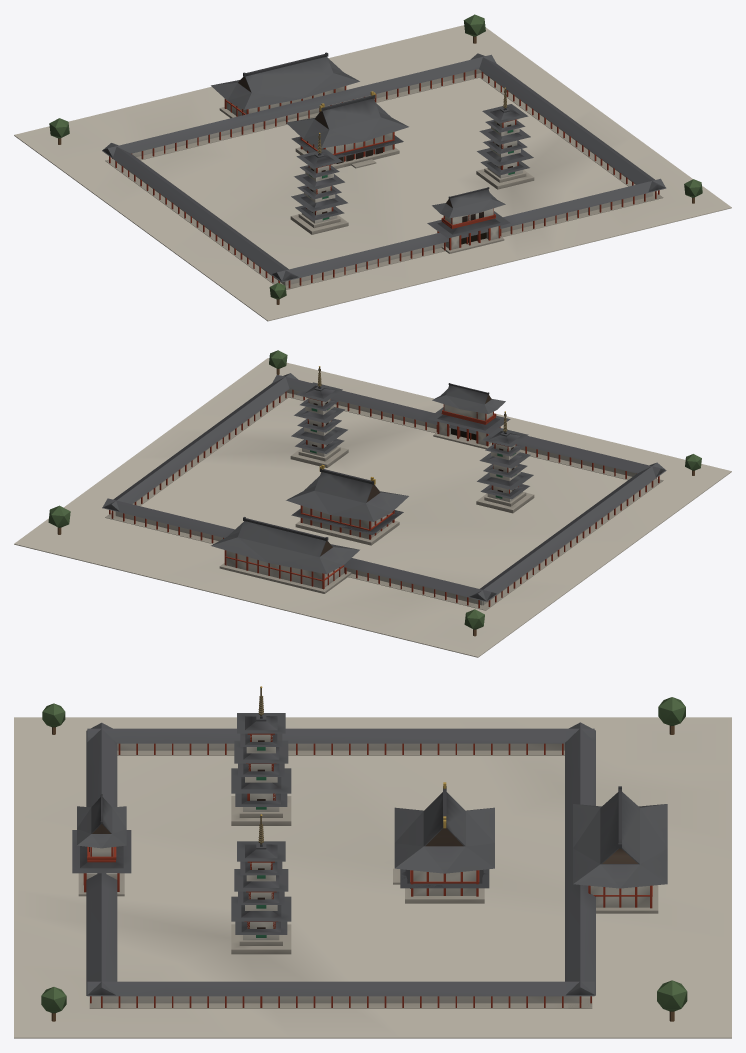
File: yakushiji.glb
3 renders of one model, top to bottom at view 1: azimuth 30°, elevation 25°; view 2: azimuth 150°, elevation 25°; view 3: azimuth 270°, elevation 25°, orthographic. The views are drawn at different scales.
Visible parts, largest first — view 1: p0_grounds, p1_halls, p2_roofs; view 2: p0_grounds, p1_halls, p2_roofs; view 3: p0_grounds, p1_halls, p2_roofs.
Part boxes in pixels (bbox=[...]): p0_grounds: bbox=[14, 25, 731, 321]; p1_halls: bbox=[102, 53, 666, 289]; p2_roofs: bbox=[49, 14, 702, 304]; p0_grounds: bbox=[14, 358, 731, 657]; p1_halls: bbox=[102, 373, 666, 610]; p2_roofs: bbox=[48, 350, 701, 636]; p0_grounds: bbox=[14, 717, 731, 1038]; p1_halls: bbox=[78, 722, 658, 1008]; p2_roofs: bbox=[41, 686, 687, 1021].
Bounding box in the file's own units: 190 × 35.55 × 180.
